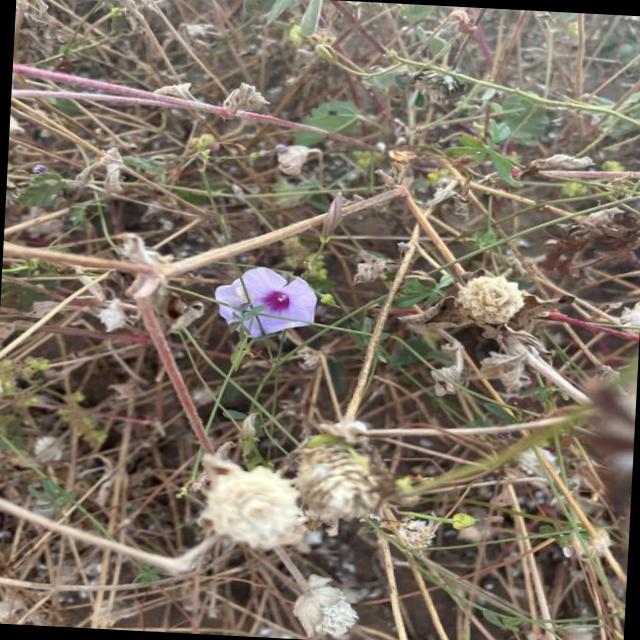ipomoea: (192, 457, 312, 555), (208, 262, 323, 345), (285, 570, 364, 640), (450, 270, 530, 332)
